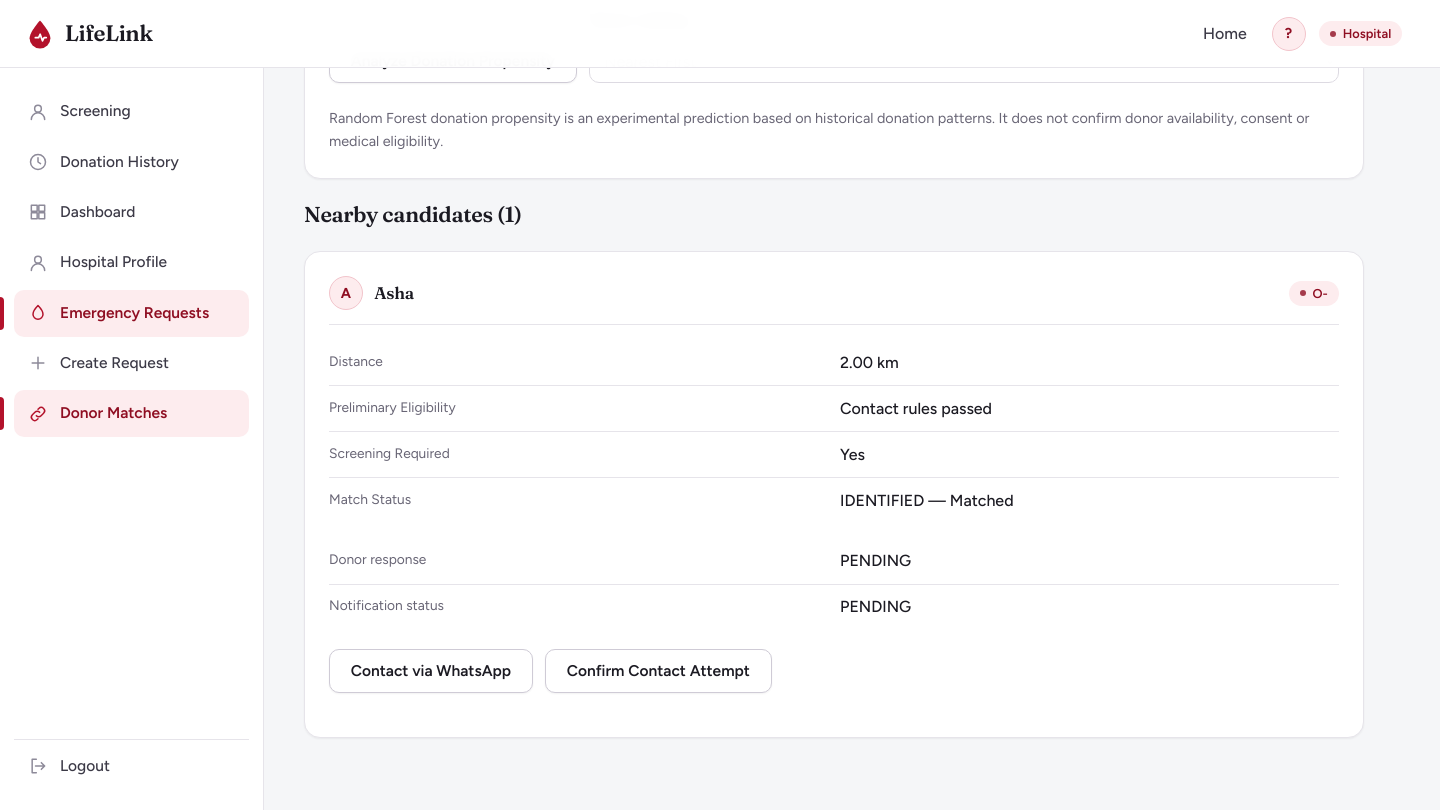
it: opens the authorized link safely without confirming contact or changing status
The image size is (1440, 810).
(page scrolled)
Step 1. Click the button "Contact via WhatsApp" → [431, 671], box [329, 649, 533, 693]
(page scrolled)
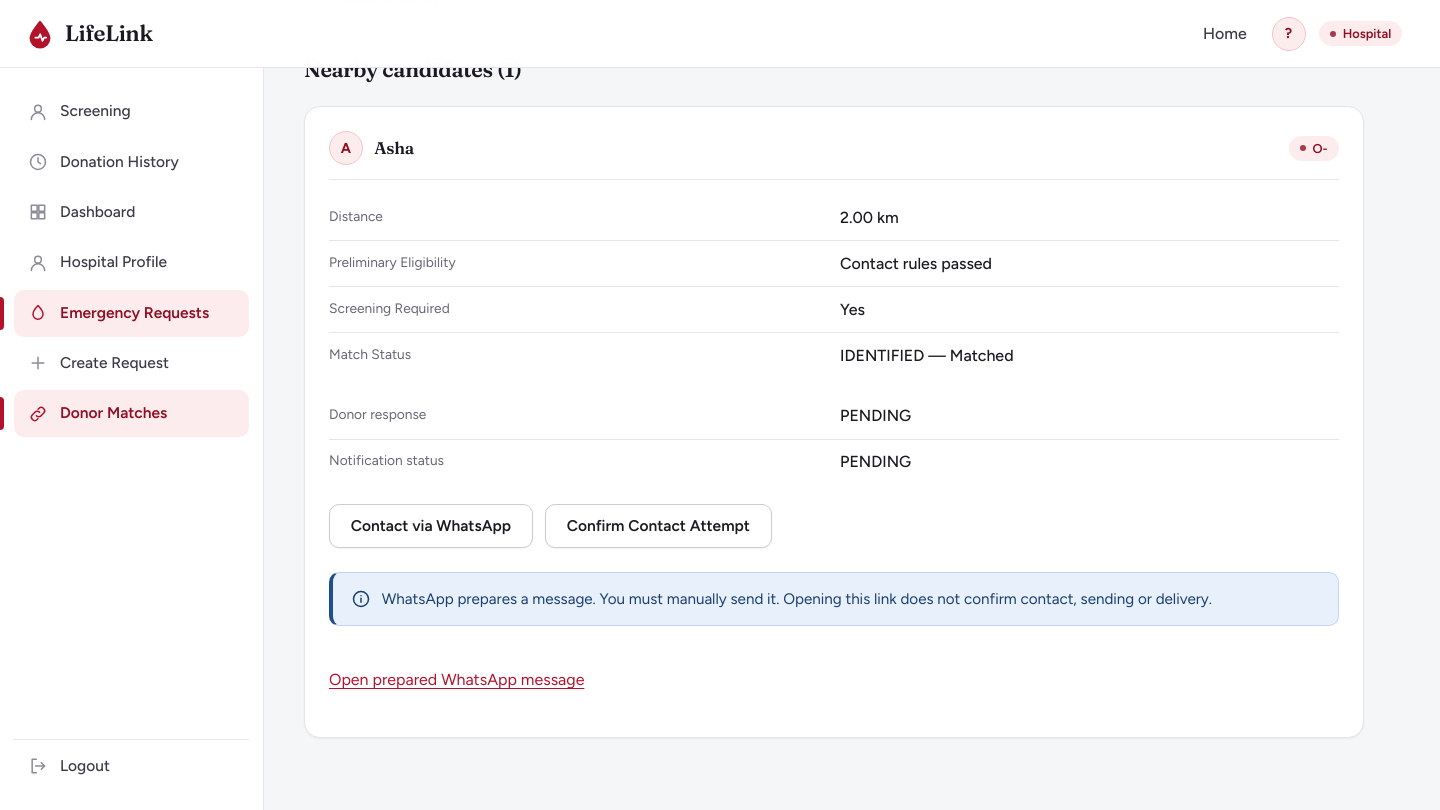
Expected: the text "IDENTIFIED" is shown, [840, 346, 924, 365]
Now the text "You must manually send it" is shown, box [382, 590, 1212, 608]
